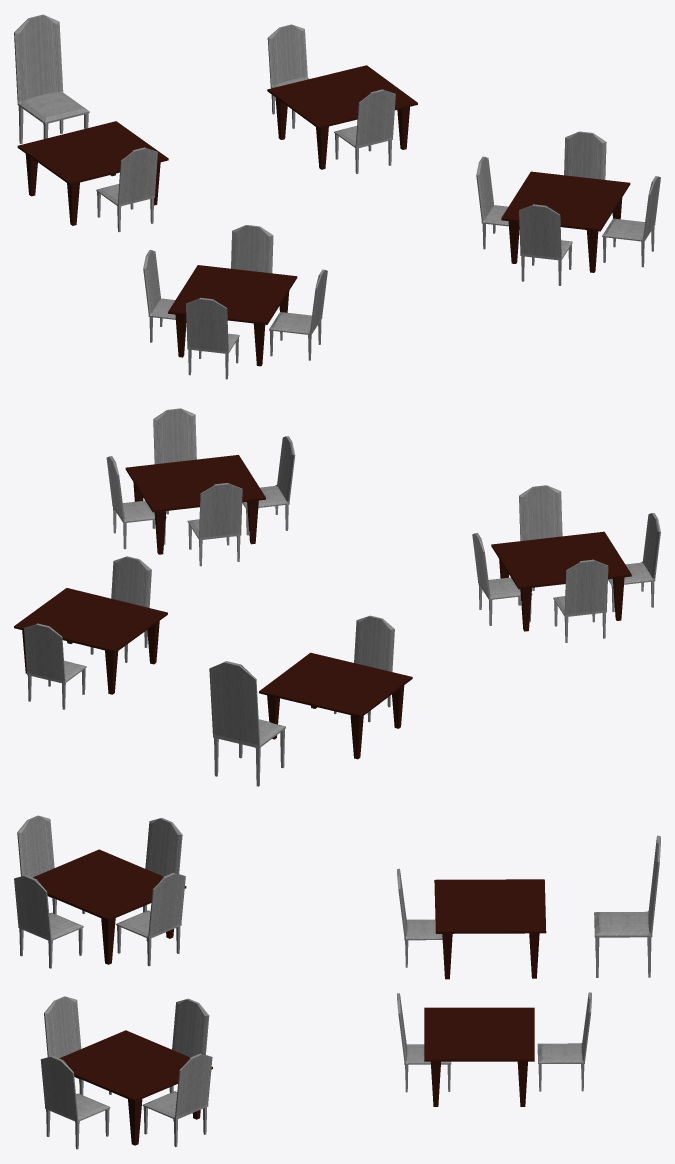
Rendered from sillasfast.obj.
The picture shows the model from 3 angles, top to bottom: view 1: azimuth 30°, elevation 25°; view 2: azimuth 150°, elevation 25°; view 3: azimuth 270°, elevation 25°; orthographic projection. The views are drawn at different scales.
Parts seen in each view (by area): view 1: Out_Table_4_Plane_023, Out_Table_3_Plane_020, Out_Table_2_Plane_015, Out_Table_1_Plane_003, Plane_019_Plane_021, Plane_012_Plane_014, Plane_017_Plane_019, Plane_020_Plane_022, Plane_020_Plane_023, Plane_019_Plane_022, Plane_016_Plane_018, Plane_011_Plane_013 (+4 smaller); view 2: Out_Table_3_Plane_020, Out_Table_4_Plane_023, Out_Table_2_Plane_015, Out_Table_1_Plane_003, Plane_019_Plane_021, Plane_004_Plane_006, Plane_015_Plane_017, Plane_019_Plane_022, Plane_003_Plane_005, Plane_014_Plane_016, Plane_020_Plane_022, Plane_020_Plane_023 (+4 smaller); view 3: Out_Table_3_Plane_020, Out_Table_4_Plane_023, Out_Table_1_Plane_003, Out_Table_2_Plane_015, Plane_003_Plane_005, Plane_014_Plane_016, Plane_011_Plane_013, Plane_016_Plane_018, Plane_019_Plane_021, Plane_017_Plane_019, Plane_012_Plane_014, Plane_015_Plane_017 (+4 smaller).
Boxes of the visible parts, x1=… form: Out_Table_4_Plane_023: x1=267, y1=65, x2=417, y2=169; Out_Table_3_Plane_020: x1=17, y1=121, x2=168, y2=225; Out_Table_2_Plane_015: x1=501, y1=171, x2=630, y2=272; Out_Table_1_Plane_003: x1=168, y1=265, x2=297, y2=366; Plane_019_Plane_021: x1=14, y1=14, x2=89, y2=143; Plane_012_Plane_014: x1=186, y1=297, x2=239, y2=379; Plane_017_Plane_019: x1=519, y1=204, x2=572, y2=285; Plane_020_Plane_022: x1=96, y1=147, x2=157, y2=231; Plane_020_Plane_023: x1=334, y1=89, x2=395, y2=173; Plane_019_Plane_022: x1=267, y1=24, x2=308, y2=128; Plane_016_Plane_018: x1=564, y1=131, x2=606, y2=179; Plane_011_Plane_013: x1=231, y1=225, x2=273, y2=273; Out_Table_3_Plane_020: x1=259, y1=652, x2=412, y2=759; Out_Table_4_Plane_023: x1=14, y1=588, x2=167, y2=694; Out_Table_2_Plane_015: x1=125, y1=455, x2=265, y2=554; Out_Table_1_Plane_003: x1=491, y1=531, x2=631, y2=631; Plane_019_Plane_021: x1=209, y1=661, x2=285, y2=786; Plane_004_Plane_006: x1=553, y1=559, x2=608, y2=642; Plane_015_Plane_017: x1=187, y1=483, x2=242, y2=566; Plane_019_Plane_022: x1=24, y1=623, x2=86, y2=709; Plane_003_Plane_005: x1=519, y1=485, x2=562, y2=590; Plane_014_Plane_016: x1=153, y1=408, x2=196, y2=514; Plane_020_Plane_022: x1=334, y1=615, x2=394, y2=722; Plane_020_Plane_023: x1=90, y1=556, x2=151, y2=662; Out_Table_3_Plane_020: x1=434, y1=879, x2=546, y2=979; Out_Table_4_Plane_023: x1=424, y1=1007, x2=534, y2=1106; Out_Table_1_Plane_003: x1=33, y1=849, x2=186, y2=964; Out_Table_2_Plane_015: x1=59, y1=1030, x2=212, y2=1145; Plane_003_Plane_005: x1=14, y1=875, x2=83, y2=968; Plane_014_Plane_016: x1=40, y1=1056, x2=110, y2=1149; Plane_011_Plane_013: x1=116, y1=872, x2=185, y2=966; Plane_016_Plane_018: x1=142, y1=1053, x2=212, y2=1146; Plane_019_Plane_021: x1=594, y1=835, x2=660, y2=977; Plane_017_Plane_019: x1=44, y1=996, x2=111, y2=1095; Plane_012_Plane_014: x1=17, y1=815, x2=85, y2=914; Plane_015_Plane_017: x1=169, y1=998, x2=209, y2=1092.
Size of the model in its own units: 143 by 33.7 by 153.
